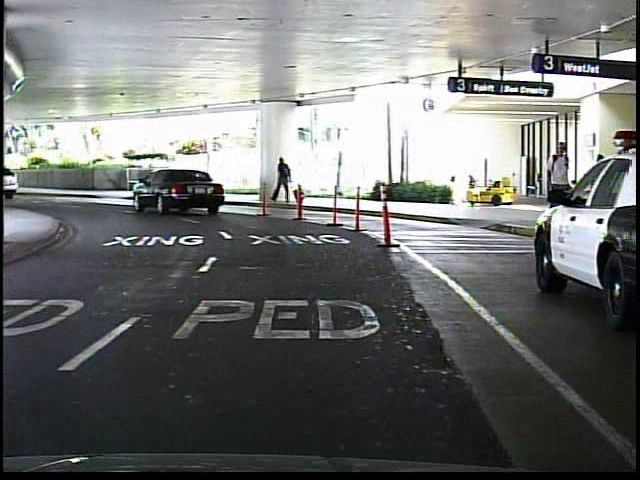person: (541, 138, 573, 235), (269, 156, 297, 208)
